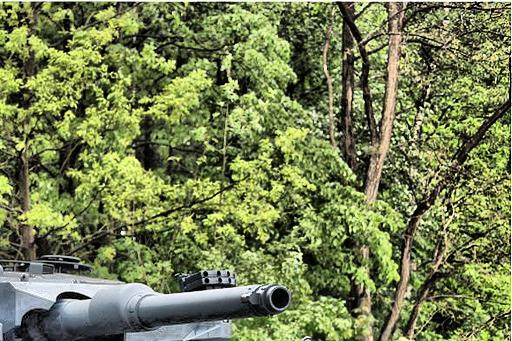tanks: (1, 257, 291, 341)
